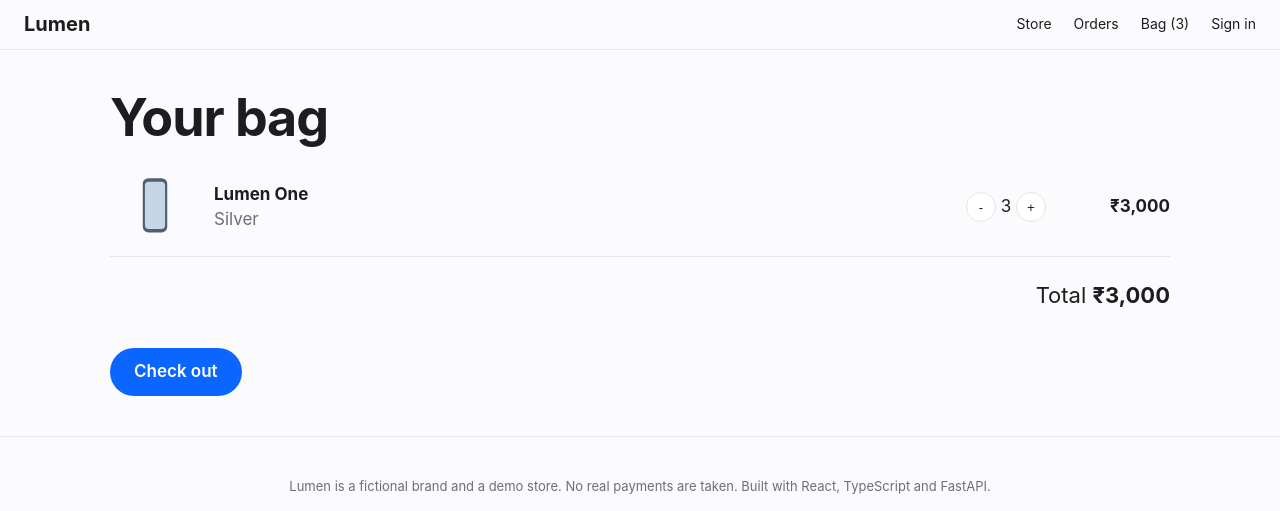
Test: Lumen store › changes quantities in the bag and shows the total
expect the text "₹3,000" in the row of "Lumen One" is shown: met, box [1110, 196, 1170, 216]
Click the button named "decrease lumen one" at (981, 207), box [966, 192, 996, 222]
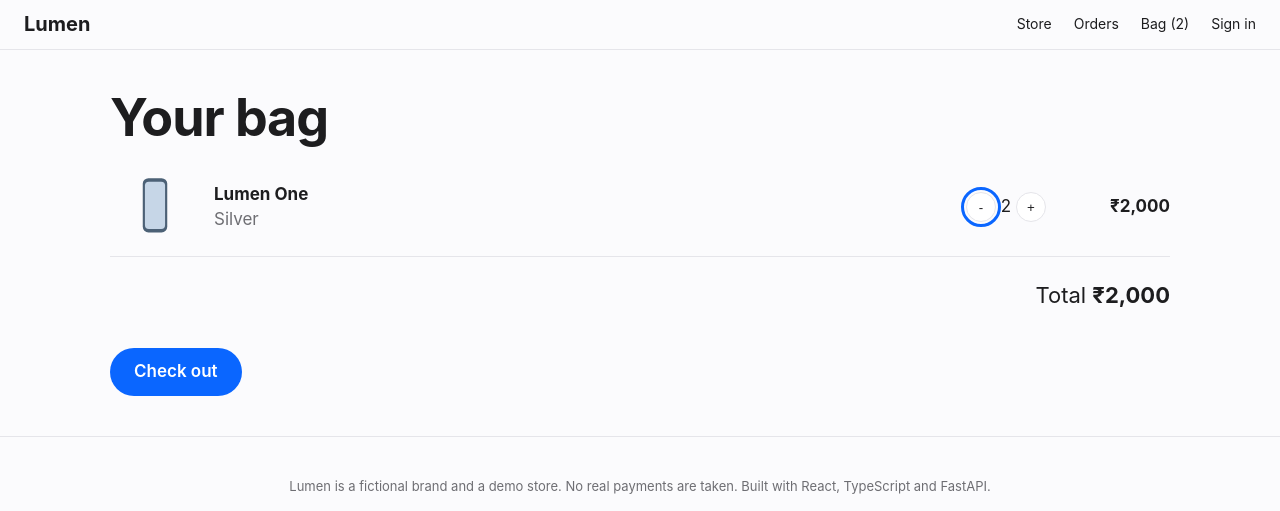
expect the text "₹2,000" in the row of "Lumen One" is shown: met, box [1110, 196, 1170, 216]
